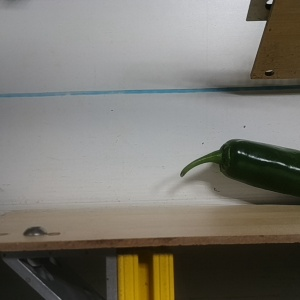Cut Point: (213, 138, 243, 180)
